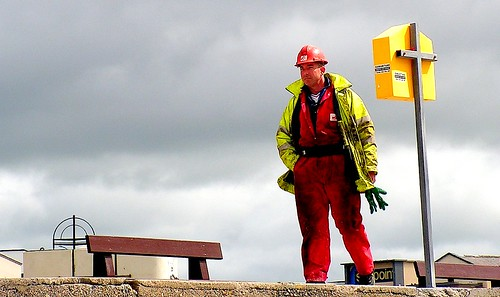person hardhat: (270, 43, 388, 280)
